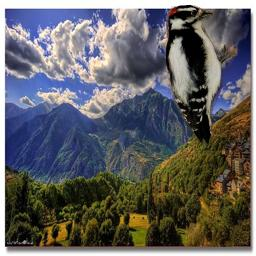Woodpecker: (166, 5, 238, 144)
